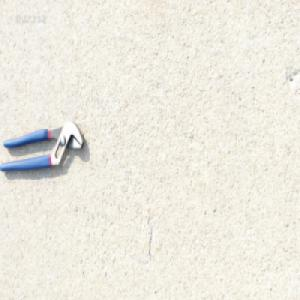Pliers: (0, 118, 84, 173)
